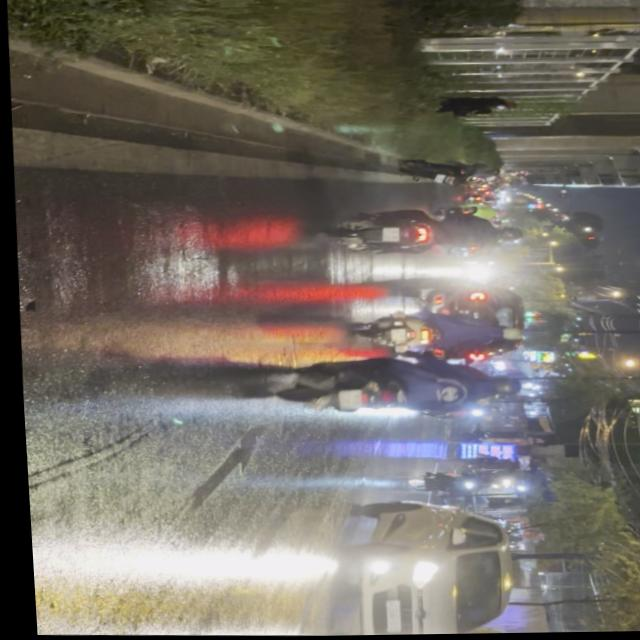helmet: (475, 376, 518, 398)
licenseplate: (265, 351, 521, 420)
nohelmet: (333, 390, 358, 411)
